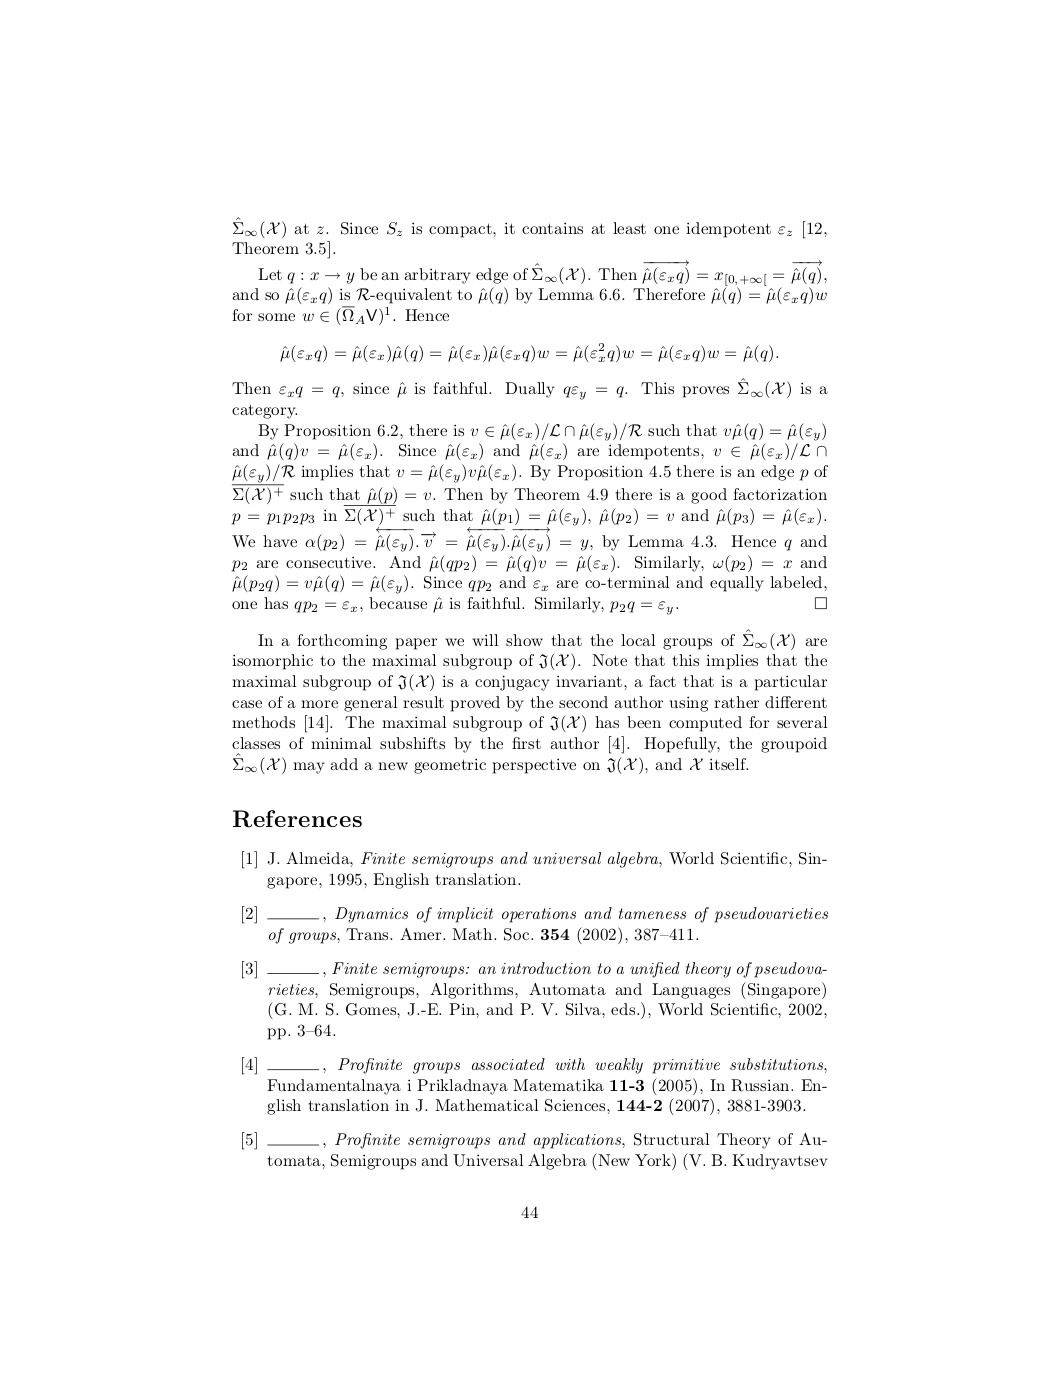formula: (280, 342, 778, 363)
